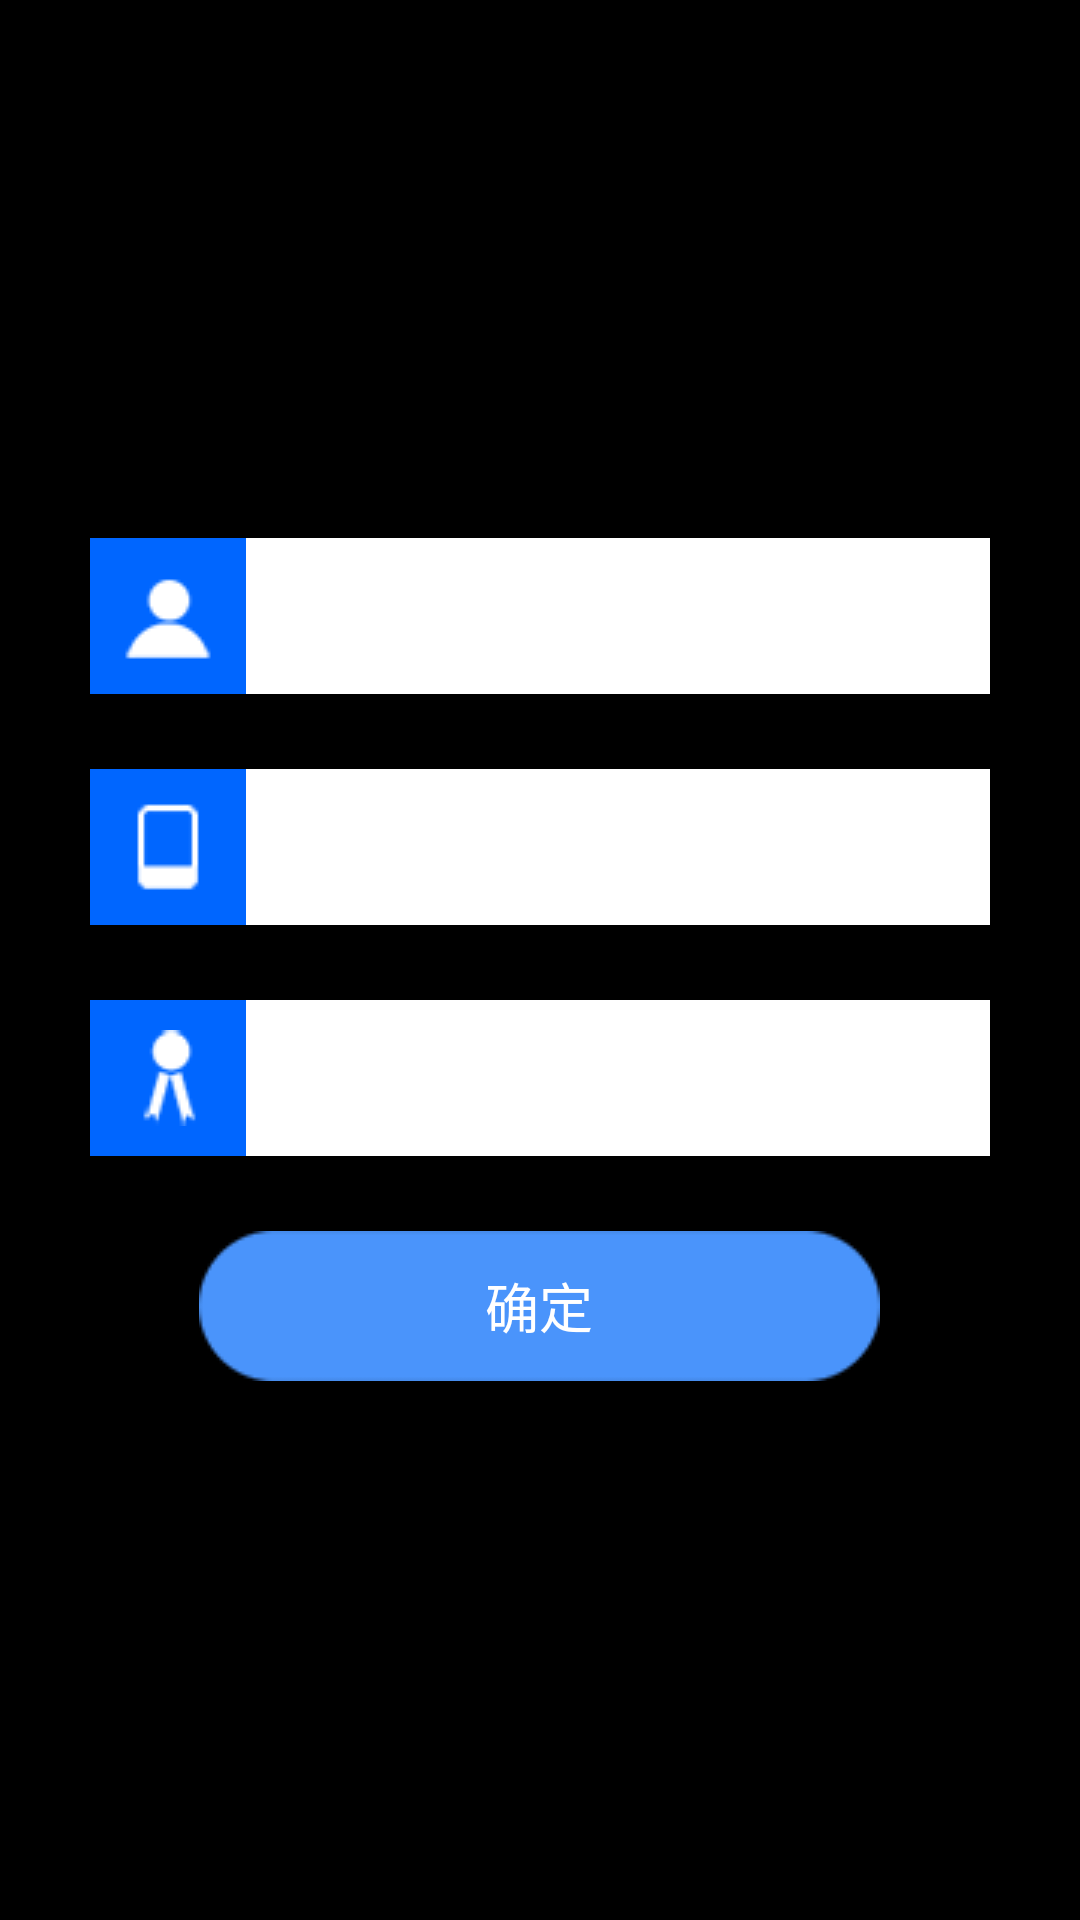

Icon bounding boxes for this 1080px x 1920px phone screenshot, format region(x1, y1, x2, y2):
pic sjh: region(90, 769, 246, 925)
